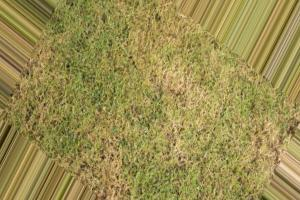patch: (79, 111, 192, 157), (112, 53, 217, 92), (207, 102, 255, 153), (41, 70, 94, 102), (110, 18, 173, 41), (41, 122, 63, 137), (226, 66, 239, 87)
